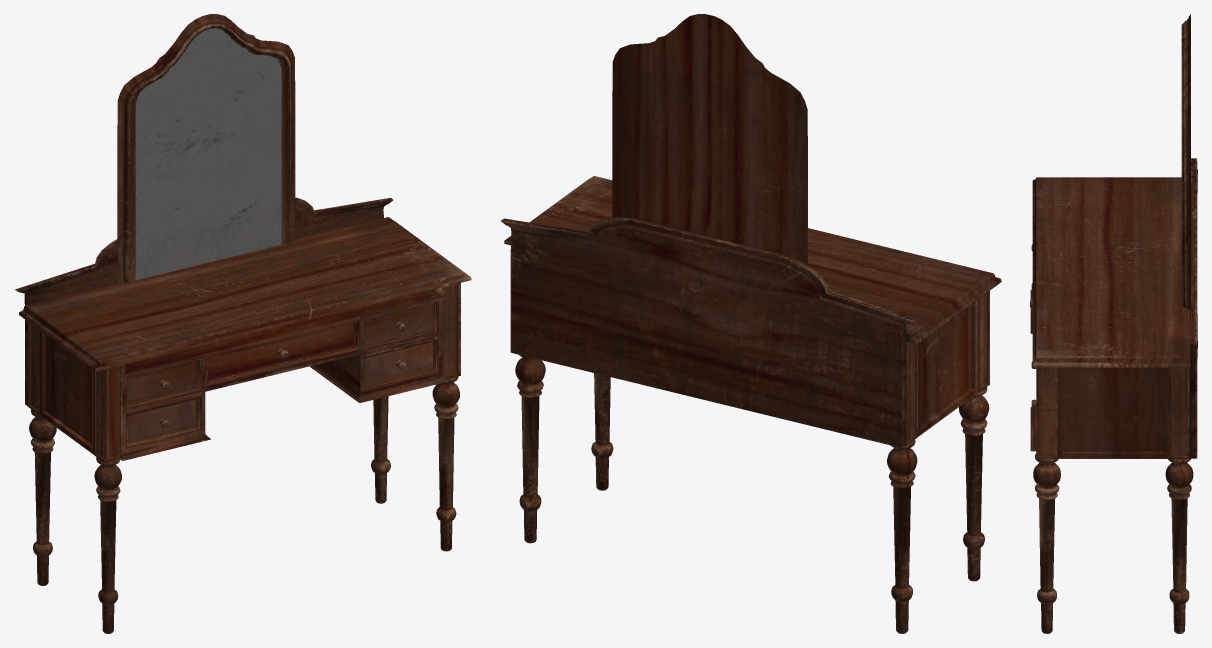
The model's file is victorian_dressing_table__furniture_game_asset.glb.
The picture shows the model from 3 angles, left to right: view 1: azimuth 30°, elevation 25°; view 2: azimuth 150°, elevation 25°; view 3: azimuth 270°, elevation 25°; orthographic projection. The views are drawn at different scales.
Parts seen in each view (by area): view 1: SM_VictorianTable, SM_VictorianTable.001, SM_VictorianTable.012, SM_VictorianTable.009, SM_VictorianTable.006, SM_VictorianTable.003; view 2: SM_VictorianTable; view 3: SM_VictorianTable.
Boxes of the visible parts, x1,y1,x2,y2 form: SM_VictorianTable: (15,14,471,633); SM_VictorianTable.001: (205,320,359,386); SM_VictorianTable.012: (363,338,438,390); SM_VictorianTable.009: (126,396,201,448); SM_VictorianTable.006: (363,300,438,352); SM_VictorianTable.003: (126,358,201,410); SM_VictorianTable: (500,14,1001,633); SM_VictorianTable: (1030,14,1197,633).
Size of the model in its own units: 137 by 182 by 52.11.
2 materials, 2 textured.
